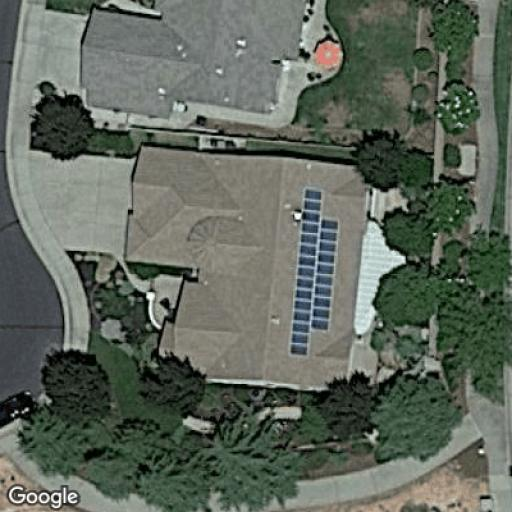solar-panel: (288, 188, 341, 357)
